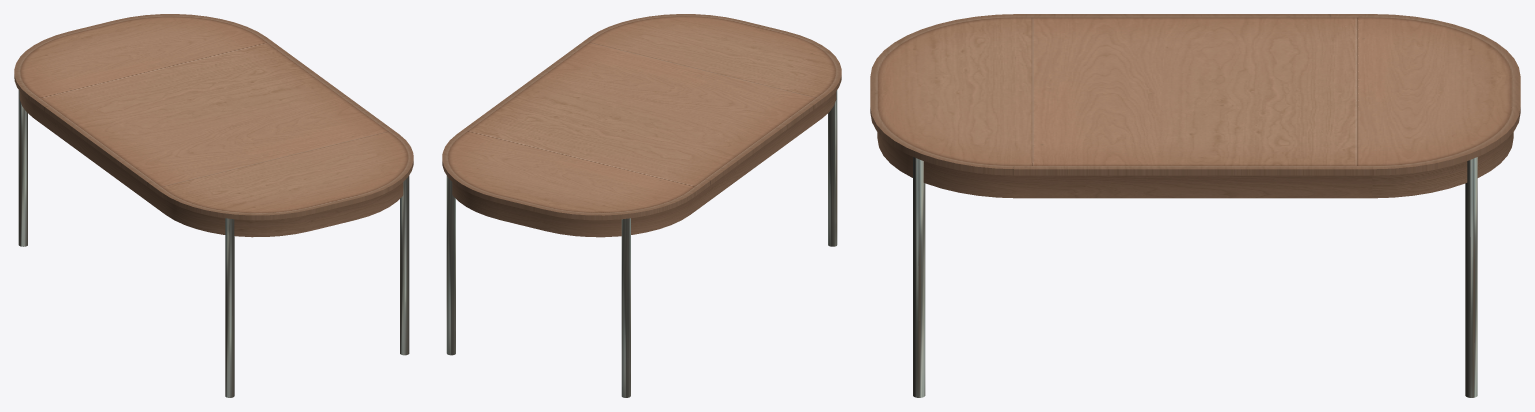
File: table_01.obj
3 views of the same model, side by side, from view 1: azimuth 30°, elevation 25°; view 2: azimuth 150°, elevation 25°; view 3: azimuth 270°, elevation 25° (orthographic). The views are drawn at different scales.
Parts seen in each view (by area): view 1: table_01; view 2: table_01; view 3: table_01.
Part boxes in pixels (bbox=[...]): table_01: bbox=[14, 14, 413, 397]; table_01: bbox=[442, 14, 841, 397]; table_01: bbox=[870, 14, 1520, 397].
Bounding box in the file's own units: 10.4 × 7.7 × 18.4.
1 material, 1 textured.
